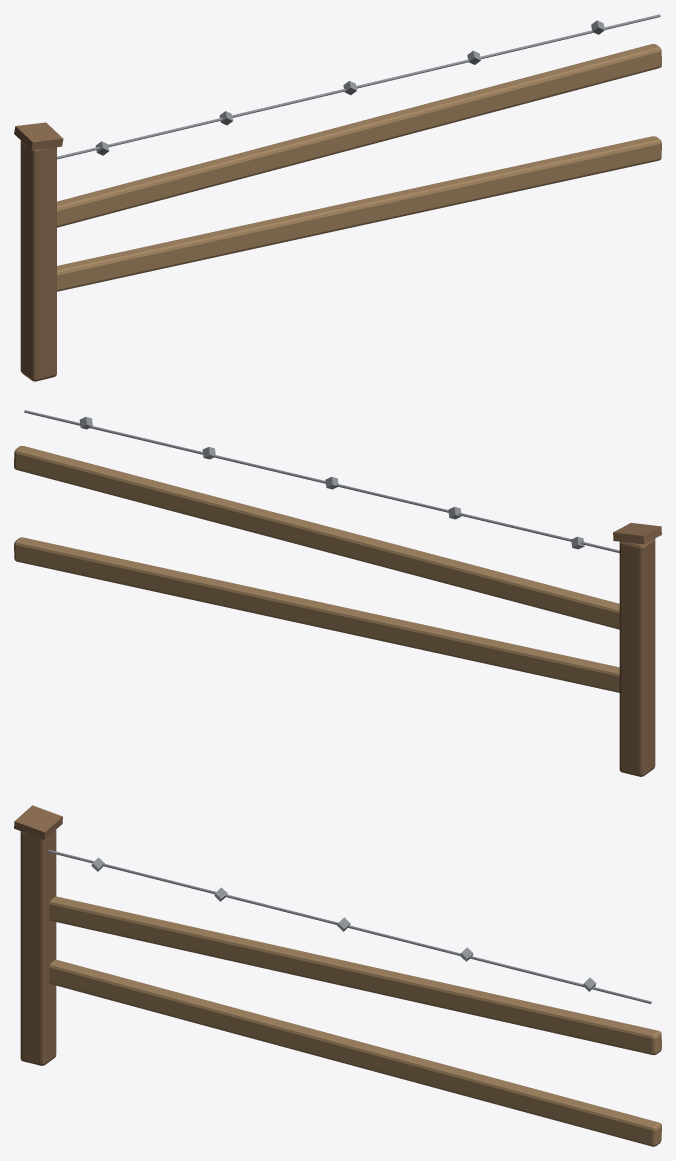
The model's file is foot_fence.glb.
The picture shows the model from 3 angles, top to bottom: view 1: azimuth 30°, elevation 25°; view 2: azimuth 150°, elevation 25°; view 3: azimuth 330°, elevation 25°; orthographic projection.
Visible parts, largest first — view 1: FootFence_body; view 2: FootFence_body; view 3: FootFence_body.
Part boxes in pixels (x1=…): FootFence_body: x1=14, y1=14, x2=661, y2=381; FootFence_body: x1=14, y1=410, x2=661, y2=776; FootFence_body: x1=14, y1=805, x2=661, y2=1146.
Size of the model in its own units: 4.13 by 1.52 by 0.204.
